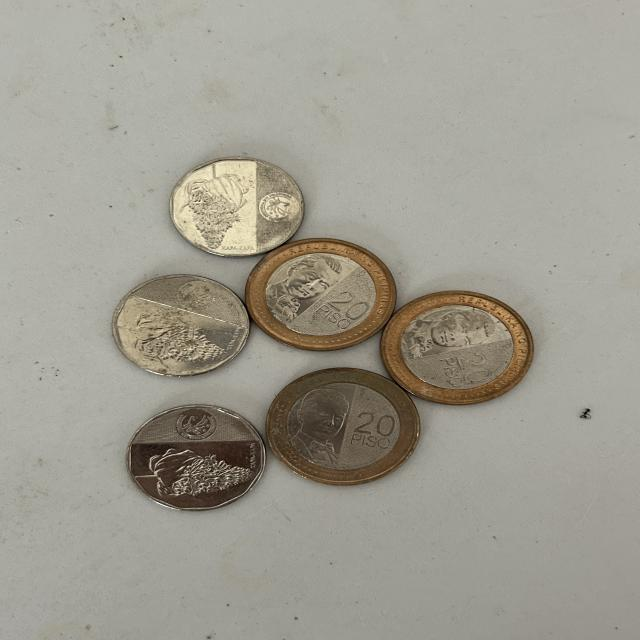10_New_Back: (127, 444, 267, 511), (167, 158, 253, 260)
20_New_Front: (310, 286, 380, 340), (335, 410, 407, 460)
